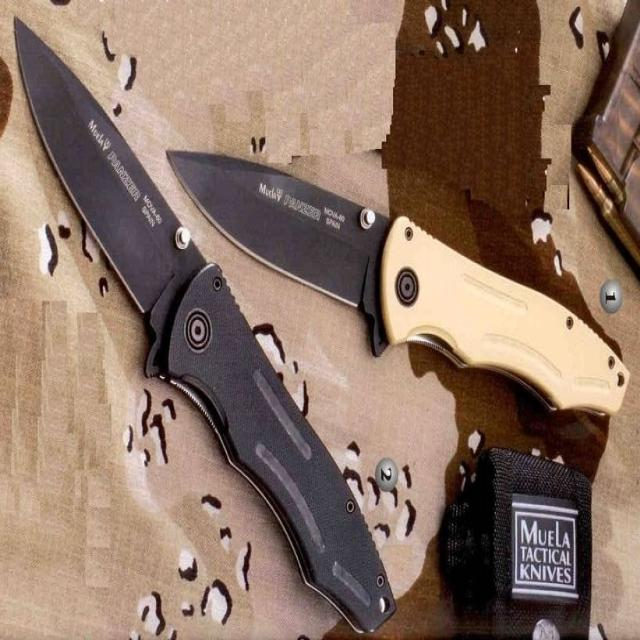knife: (1, 14, 396, 640), (167, 119, 636, 432)
